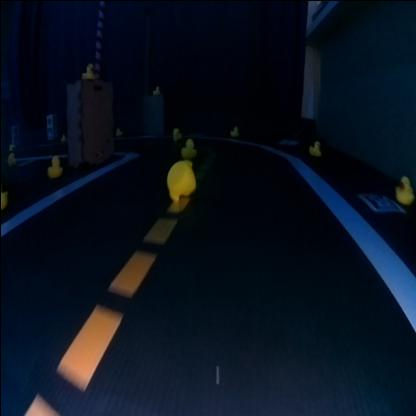Duckie: (166, 158, 194, 198), (394, 176, 413, 204), (46, 154, 60, 175), (180, 139, 195, 157), (80, 63, 94, 78), (308, 140, 320, 154), (172, 126, 180, 136), (230, 124, 237, 134), (152, 85, 158, 92), (115, 126, 120, 134)
QR code: (357, 192, 402, 210)
